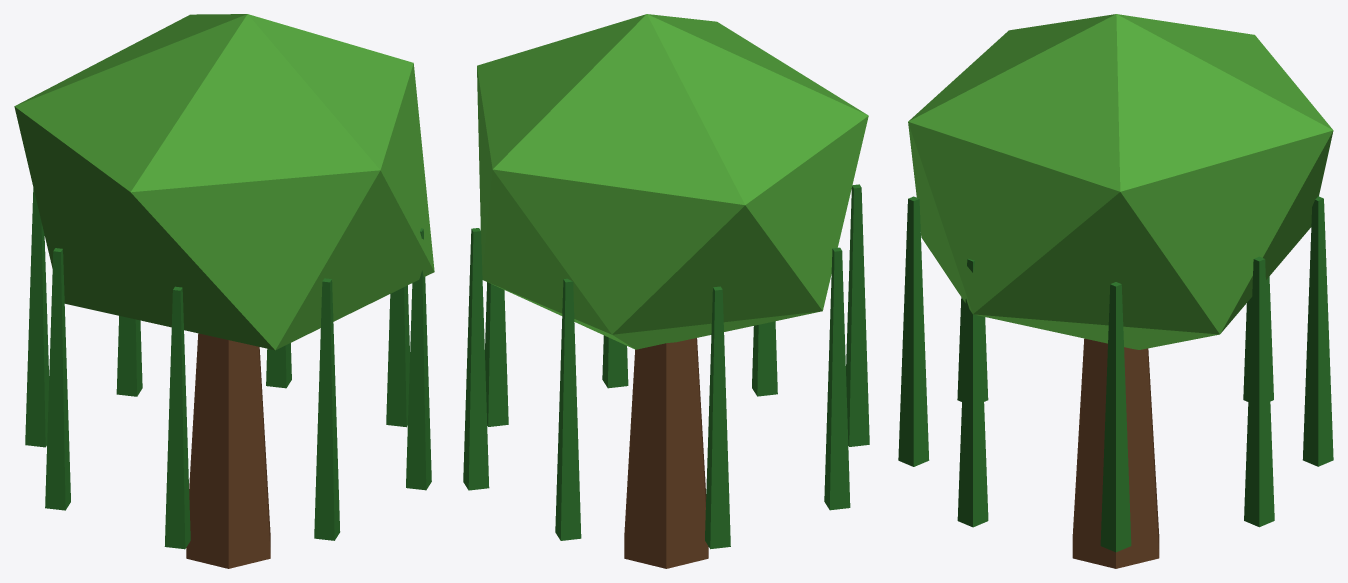
The model's file is tree_willow.glb.
The picture shows the model from 3 angles, left to right: view 1: azimuth 30°, elevation 25°; view 2: azimuth 150°, elevation 25°; view 3: azimuth 270°, elevation 25°; orthographic projection. The views are drawn at different scales.
Visible parts, largest first — view 1: tree_willow; view 2: tree_willow; view 3: tree_willow.
Boxes of the visible parts, left/top/right/bottom form: tree_willow: left=14, top=14, right=434, bottom=568; tree_willow: left=463, top=14, right=869, bottom=568; tree_willow: left=898, top=14, right=1333, bottom=568.
Size of the model in its own units: 2.28 by 3.11 by 2.26.
